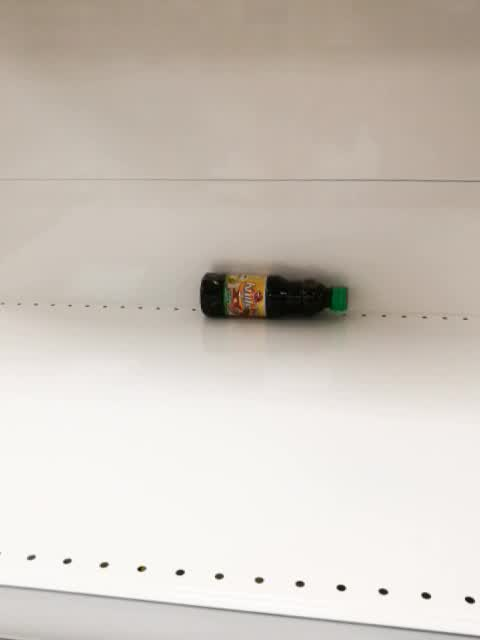cookingoil: (197, 269, 349, 322)
